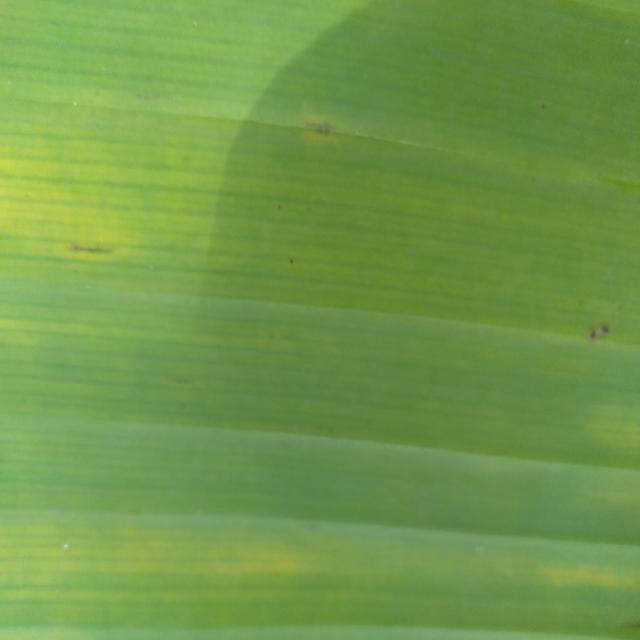Cordana: (0, 426, 309, 640), (0, 97, 139, 337), (459, 526, 640, 632), (251, 79, 363, 197), (572, 376, 640, 460)
